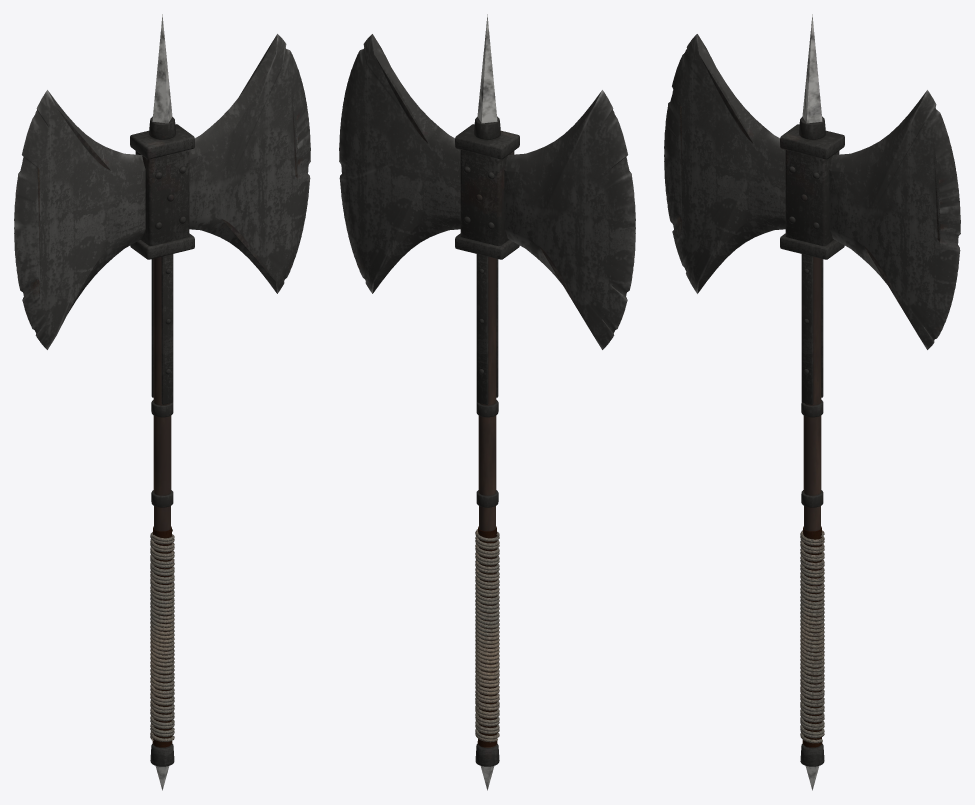
The model's file is axe.glb.
3 renders of one model, left to right at view 1: azimuth 30°, elevation 25°; view 2: azimuth 150°, elevation 25°; view 3: azimuth 330°, elevation 25°, orthographic.
Parts seen in each view (by area): view 1: axe; view 2: axe; view 3: axe.
Boxes of the visible parts, box(x1,y1,x2,y2) form: axe: box(14, 14, 310, 790); axe: box(339, 14, 635, 790); axe: box(664, 14, 960, 790).
Size of the model in its own units: 1.24 by 3.1 by 0.1368.
1 material, 1 textured.
